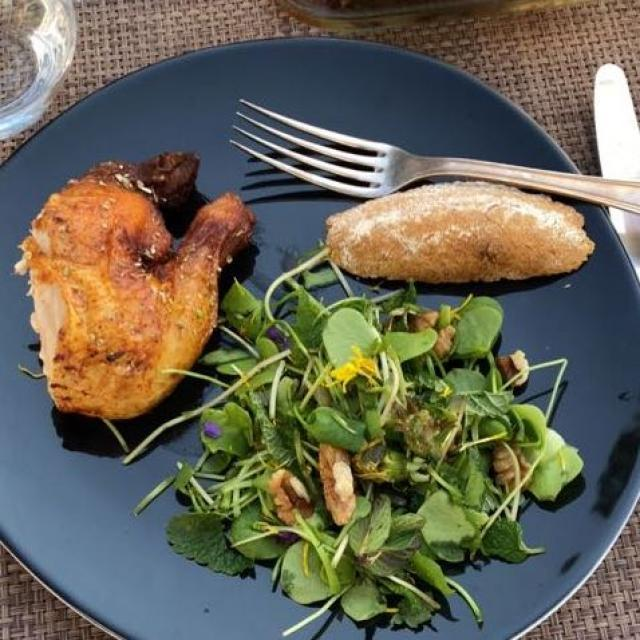bread: (325, 171, 606, 291)
chicken: (22, 152, 254, 426)
salad: (171, 283, 576, 599)
